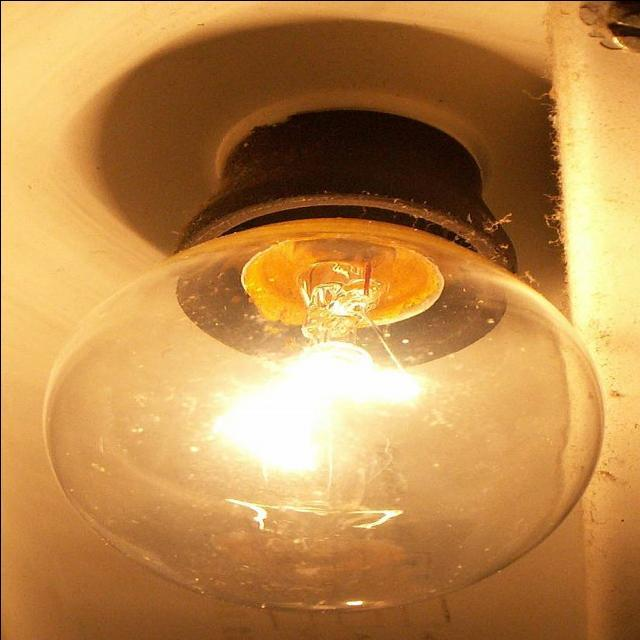light_bulb: (28, 90, 620, 630)
